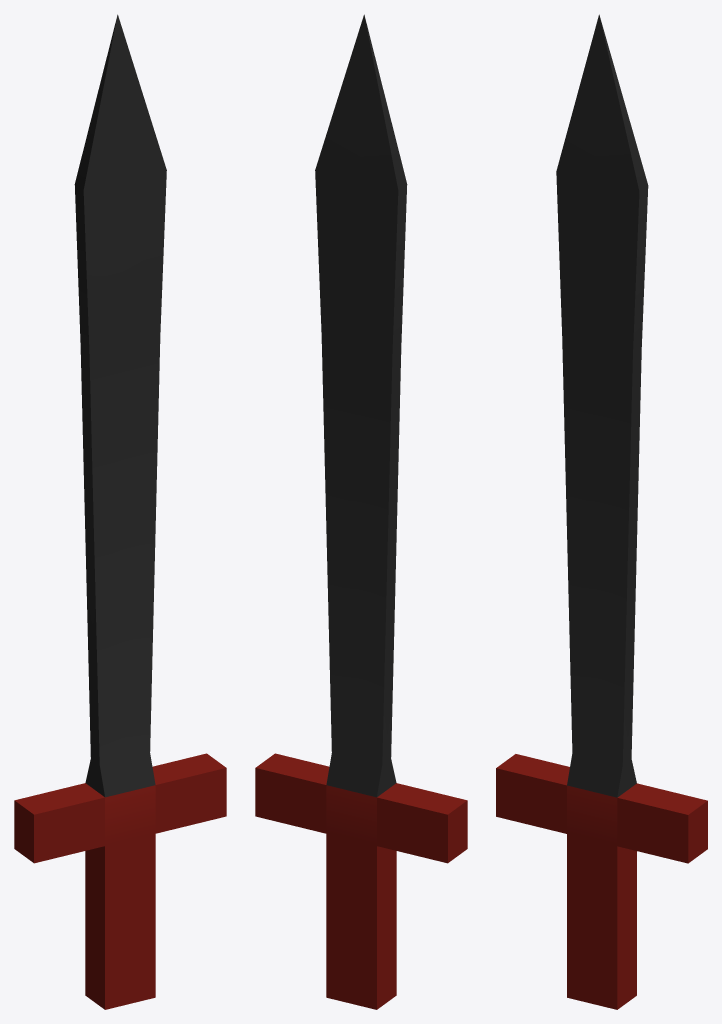
Rendered from Espada.FBX.
3 views of the same model, side by side, from view 1: azimuth 30°, elevation 25°; view 2: azimuth 150°, elevation 25°; view 3: azimuth 330°, elevation 25° (orthographic).
Parts seen in each view (by area): view 1: Espada; view 2: Espada; view 3: Espada.
Part boxes in pixels (x1,y1,x2,y2): Espada: [14, 14, 226, 1009]; Espada: [255, 14, 467, 1009]; Espada: [496, 14, 707, 1009].
Bounding box in the file's own units: 0.2607 × 1.27 × 0.0462.
